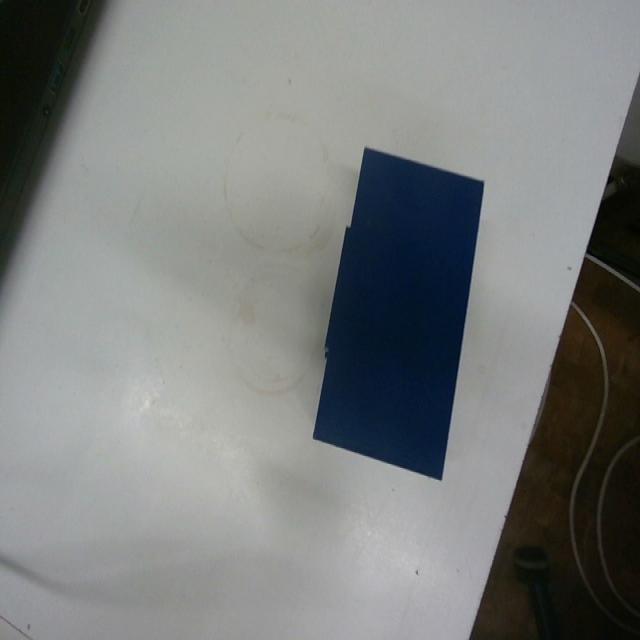Blue Cuboid: (310, 142, 485, 482)
